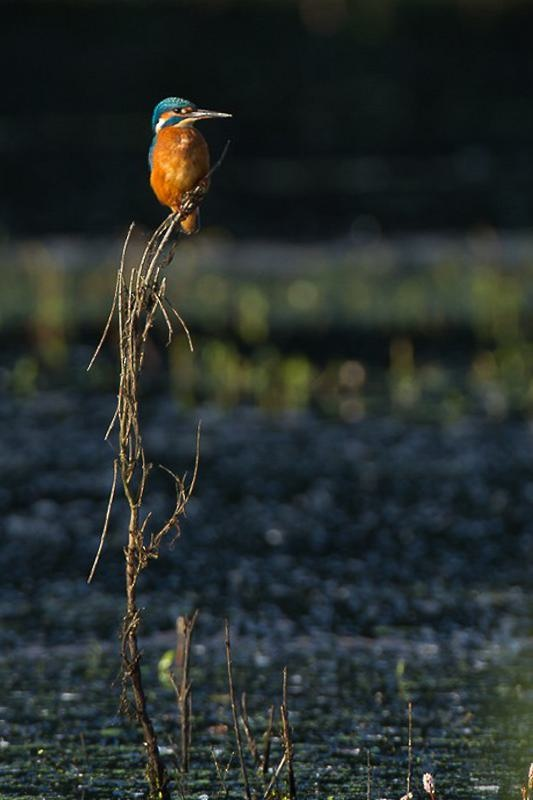kingfisher: (140, 78, 232, 273)
